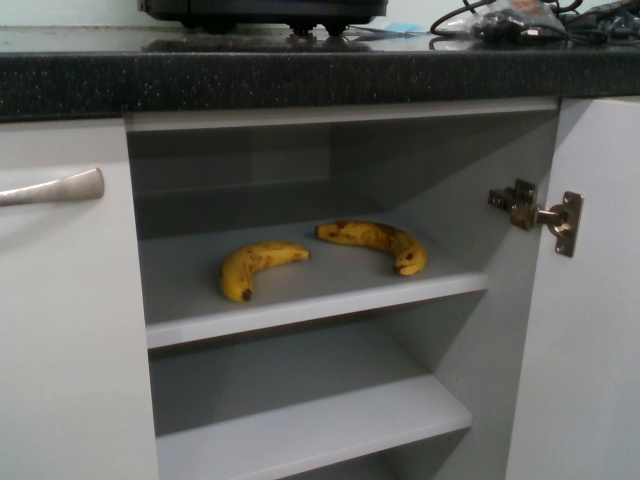banana: (315, 217, 428, 279), (212, 239, 309, 304)
